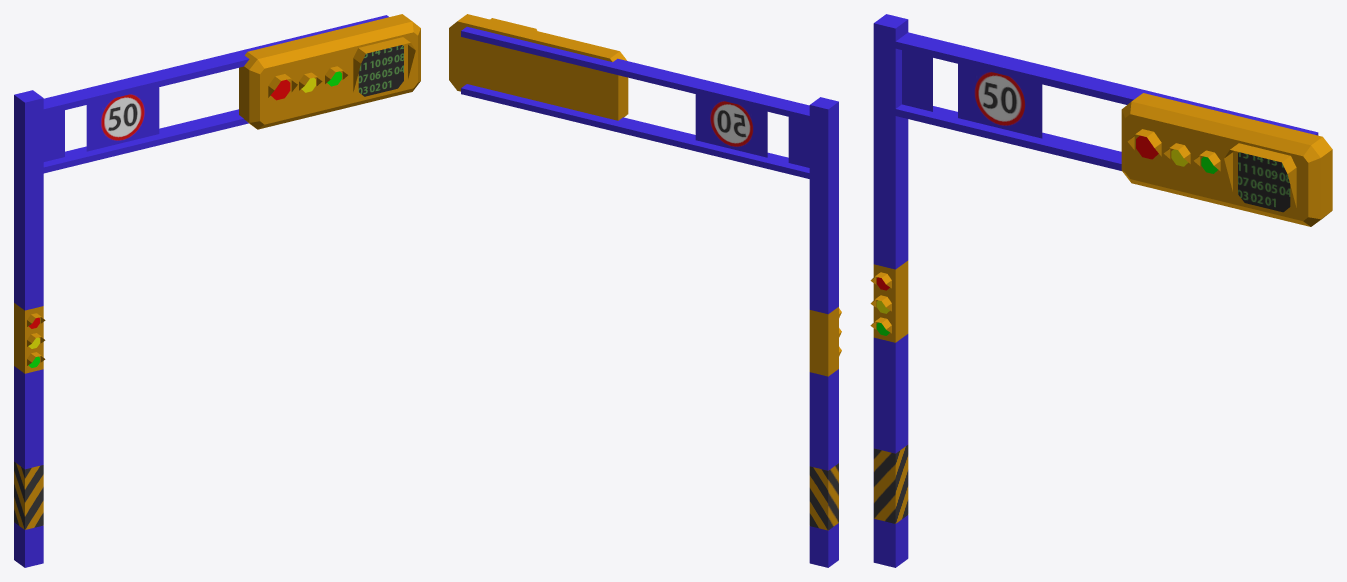
Rendered from semaforo.glb.
3 views of the same model, side by side, from view 1: azimuth 30°, elevation 25°; view 2: azimuth 150°, elevation 25°; view 3: azimuth 330°, elevation 25° (orthographic). The views are drawn at different scales.
Visible parts, largest first — view 1: Main; view 2: Main; view 3: Main.
Part boxes in pixels (x1,y1,x2,y2): Main: (14, 14, 420, 567); Main: (449, 14, 841, 567); Main: (870, 14, 1332, 567).
Size of the model in its own units: 220 by 251 by 27.22.
Materials: 5 (2 with a texture image).
